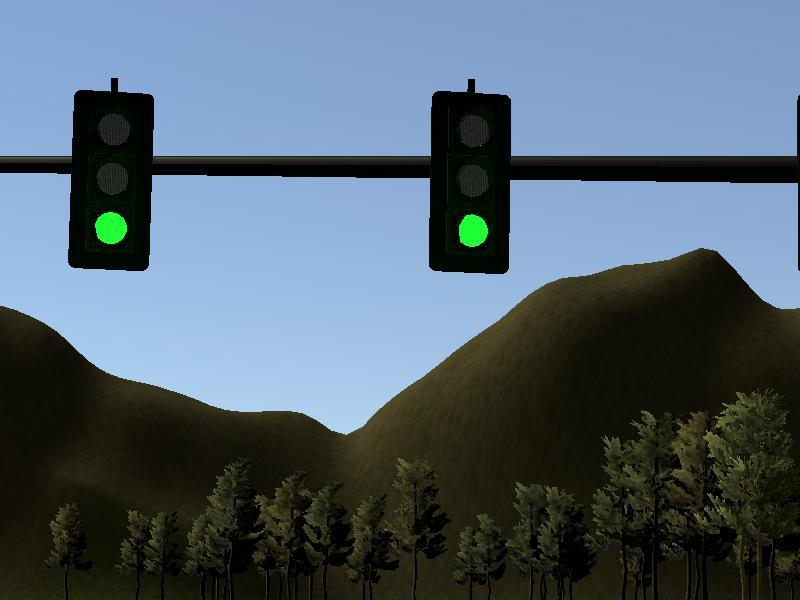Green: (433, 94, 507, 272), (76, 91, 147, 267)
